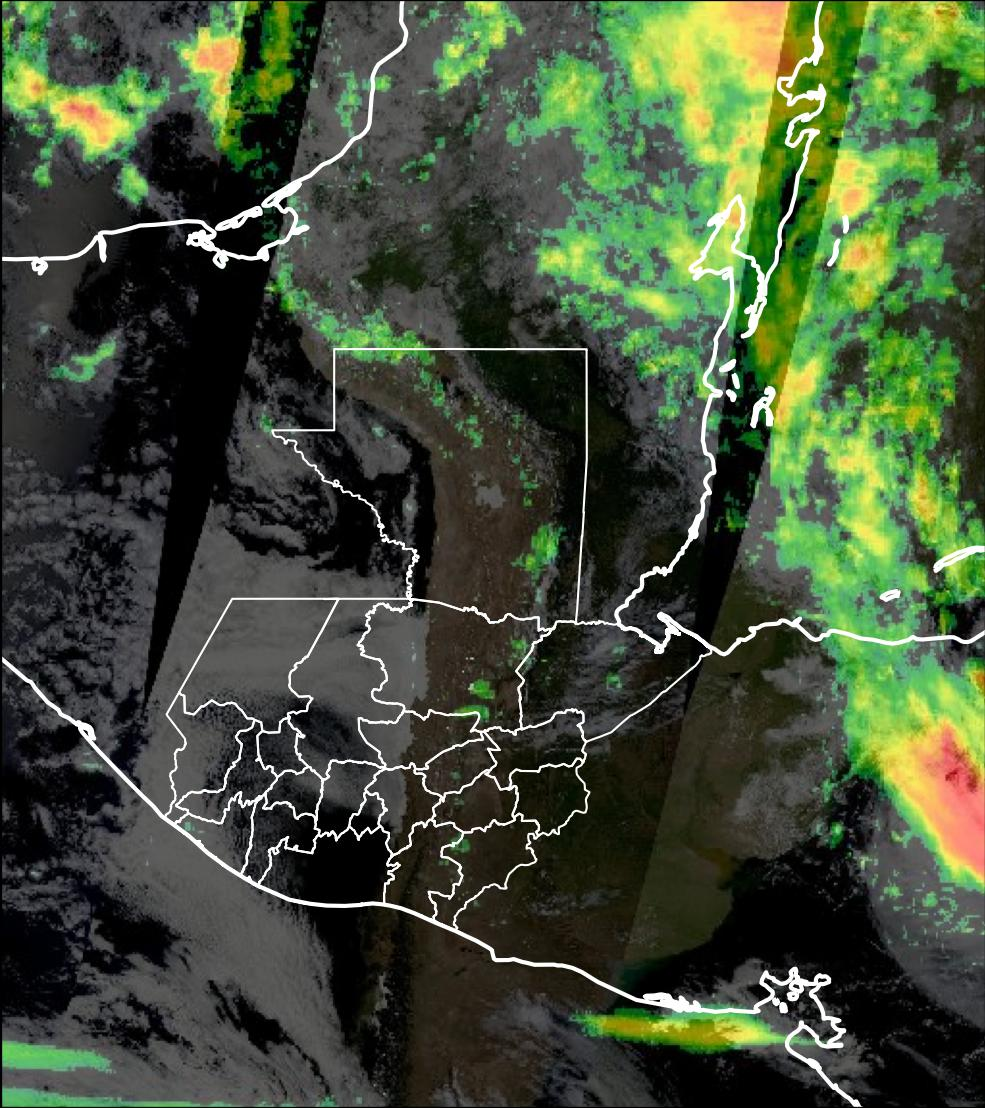precipitacion: (894, 721, 985, 883), (689, 2, 797, 93), (56, 92, 123, 150)
